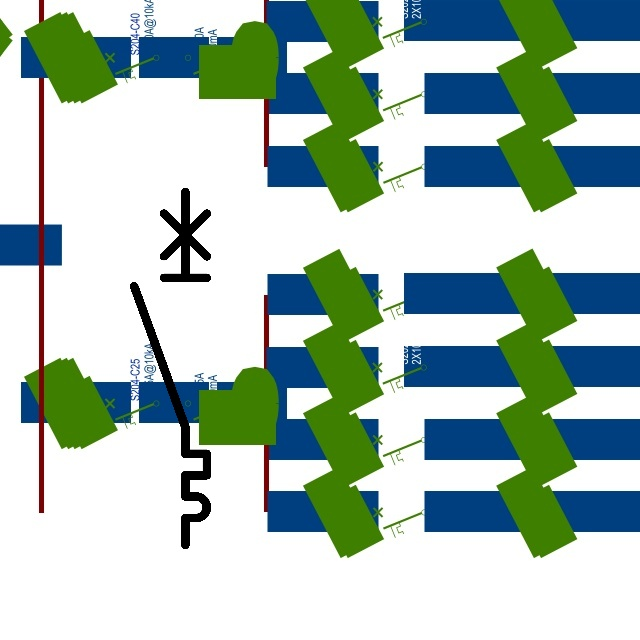interruptor_termomagnetico: (125, 183, 216, 554)
